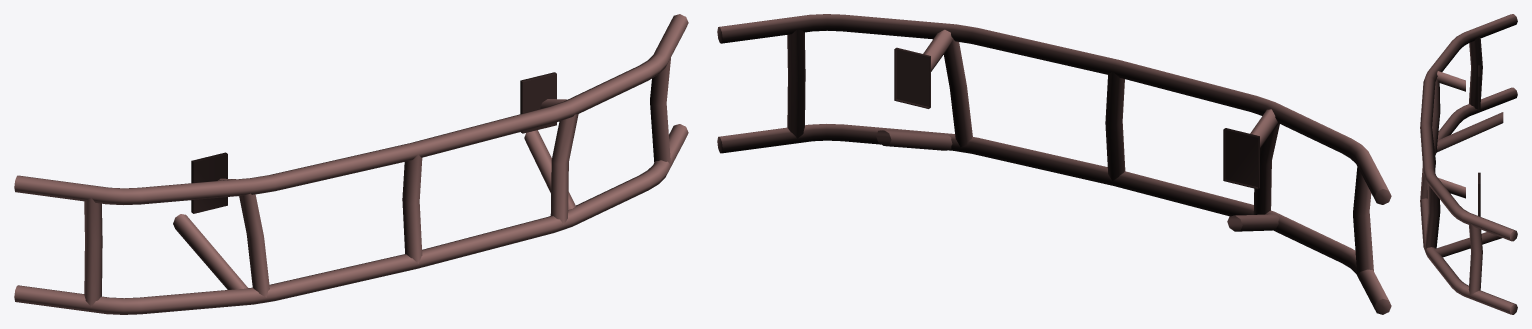
File: Mustang16_FB_BB02_Trim.fbx
3 renders of one model, left to right at view 1: azimuth 30°, elevation 25°; view 2: azimuth 150°, elevation 25°; view 3: azimuth 270°, elevation 25°, orthographic. The views are drawn at different scales.
Visible parts, largest first — view 1: Mustang16_FB_BB02_Trim; view 2: Mustang16_FB_BB02_Trim; view 3: Mustang16_FB_BB02_Trim.
Boxes of the visible parts, x1,y1,x2,y2 form: Mustang16_FB_BB02_Trim: (14,14,688,314); Mustang16_FB_BB02_Trim: (717,14,1391,314); Mustang16_FB_BB02_Trim: (1420,14,1517,314).
Bounding box in the file's own units: 174 × 31.08 × 32.65.
